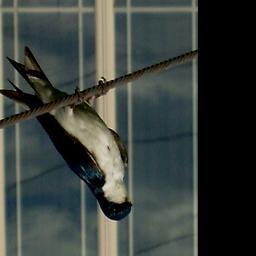Swallow: (0, 45, 134, 222)
